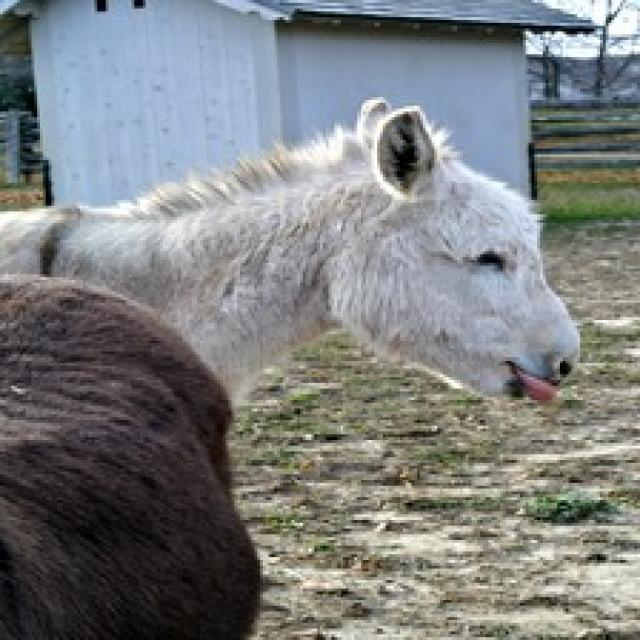Donkey: (0, 94, 580, 637), (0, 268, 263, 638)
